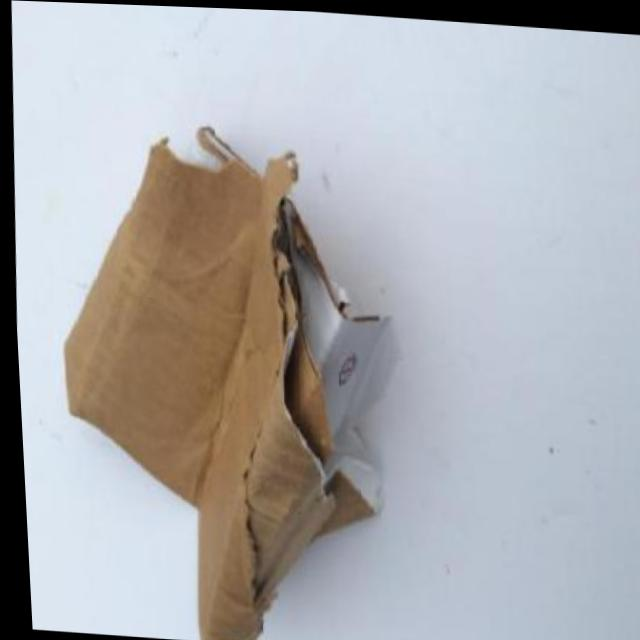box: (25, 114, 484, 640)
